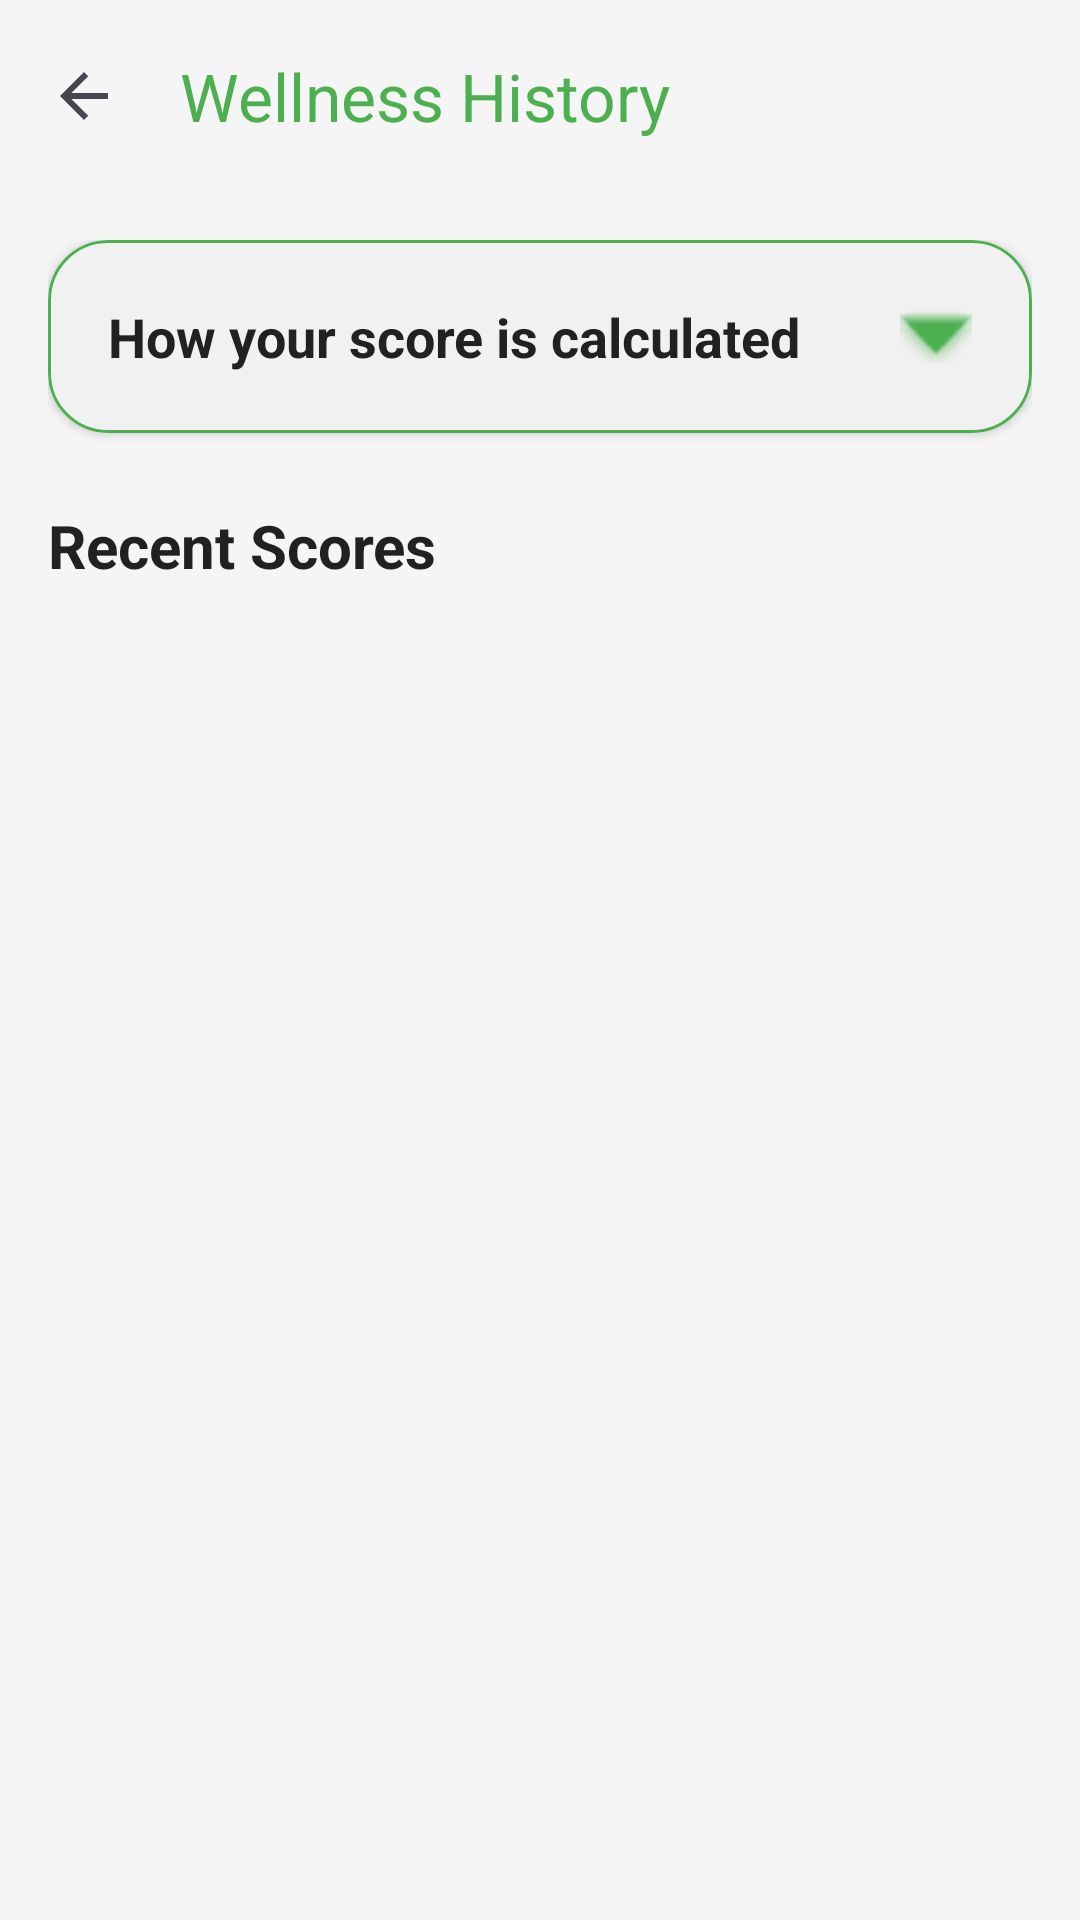

Icons on this 1080 x 1920 Android screen, each with its box as (x1, y1, x2, y2):
arrow down float: (900, 313, 972, 358)
